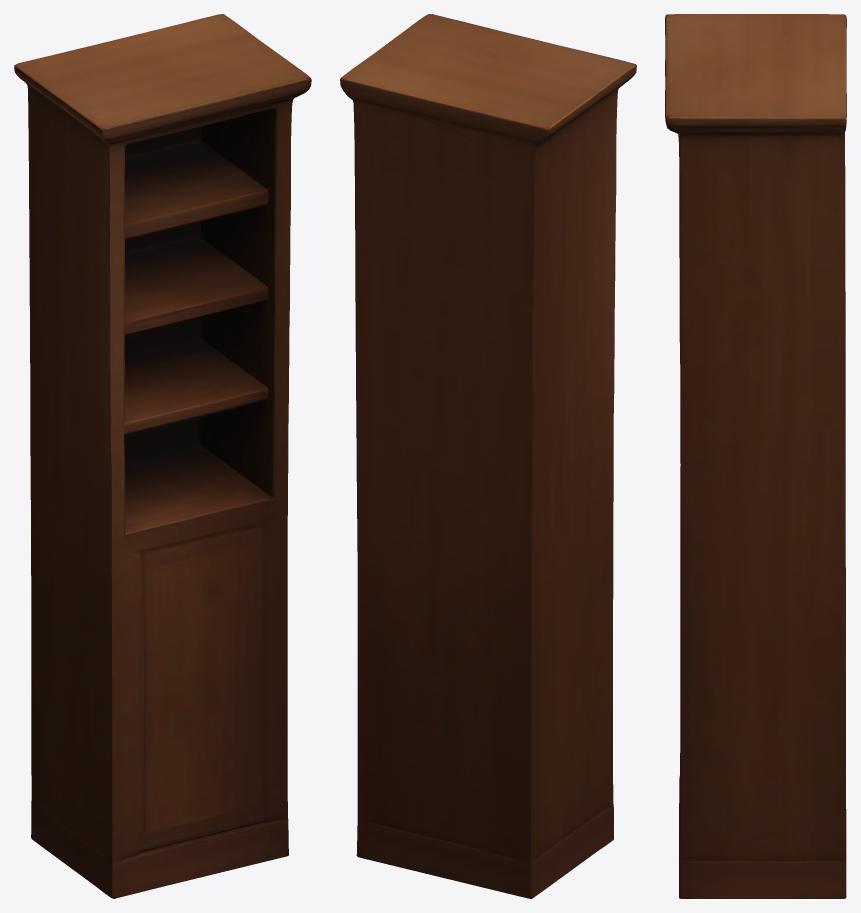
Rendered from shelves.glb.
3 renders of one model, left to right at view 1: azimuth 30°, elevation 25°; view 2: azimuth 150°, elevation 25°; view 3: azimuth 270°, elevation 25°, orthographic.
Parts seen in each view (by area): view 1: geometry_0; view 2: geometry_0; view 3: geometry_0.
Part boxes in pixels (<box>): geometry_0: <box>14,14,311,898</box>; geometry_0: <box>340,14,636,898</box>; geometry_0: <box>665,14,846,898</box>.
Size of the model in its own units: 0.2841 by 1 by 0.2088.
1 material, 1 textured.
